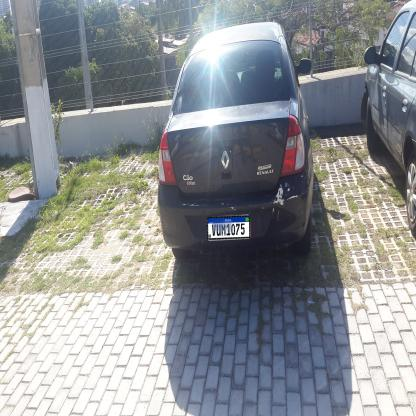PlacaM: (207, 216, 250, 240)
